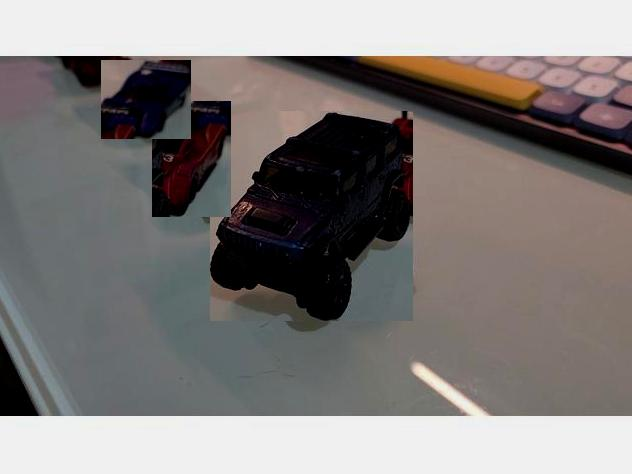toy-car: (210, 111, 413, 321), (152, 102, 231, 218), (101, 60, 191, 139)
